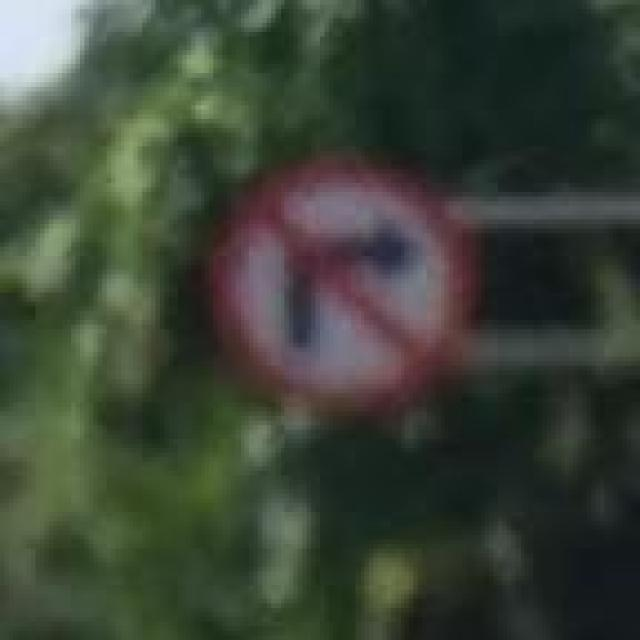traffic sign: (218, 169, 467, 416)
